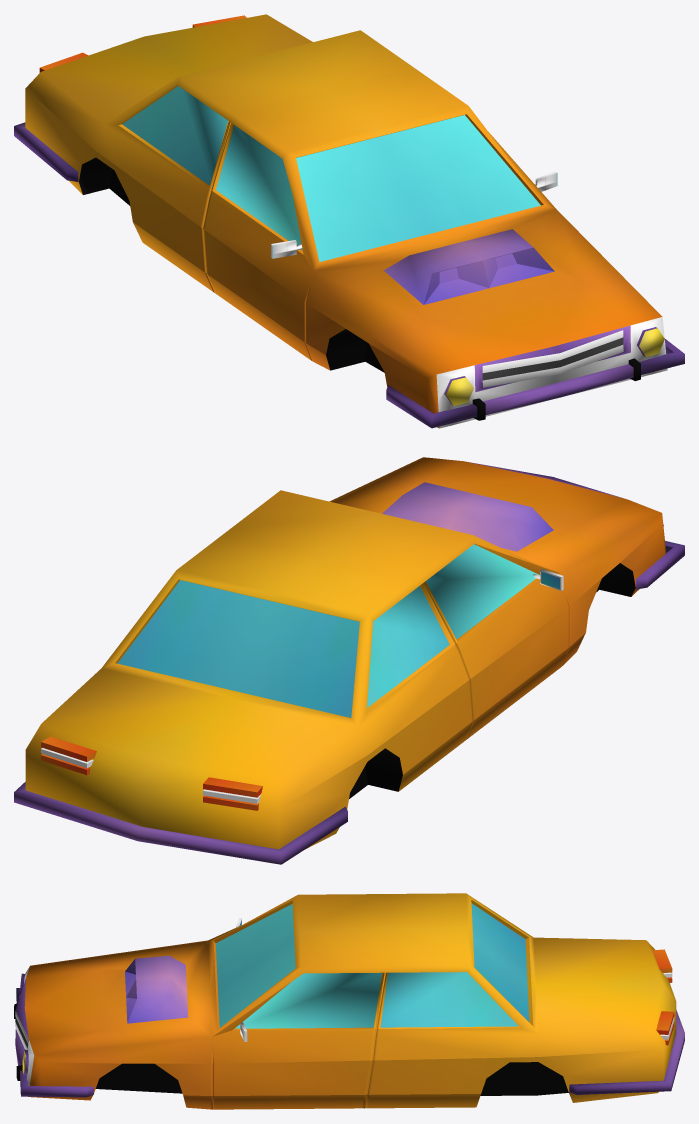
Rendered from Car_3.fbx.
3 renders of one model, top to bottom at view 1: azimuth 30°, elevation 25°; view 2: azimuth 150°, elevation 25°; view 3: azimuth 270°, elevation 25°, orthographic. The views are drawn at different scales.
Visible parts, largest first — view 1: Car_3; view 2: Car_3; view 3: Car_3.
Part boxes in pixels (x1=…): Car_3: x1=14, y1=14, x2=684, y2=428; Car_3: x1=14, y1=457, x2=684, y2=864; Car_3: x1=14, y1=893, x2=684, y2=1109.
Size of the model in its own units: 242 by 129 by 604.
1 material, 1 textured.
